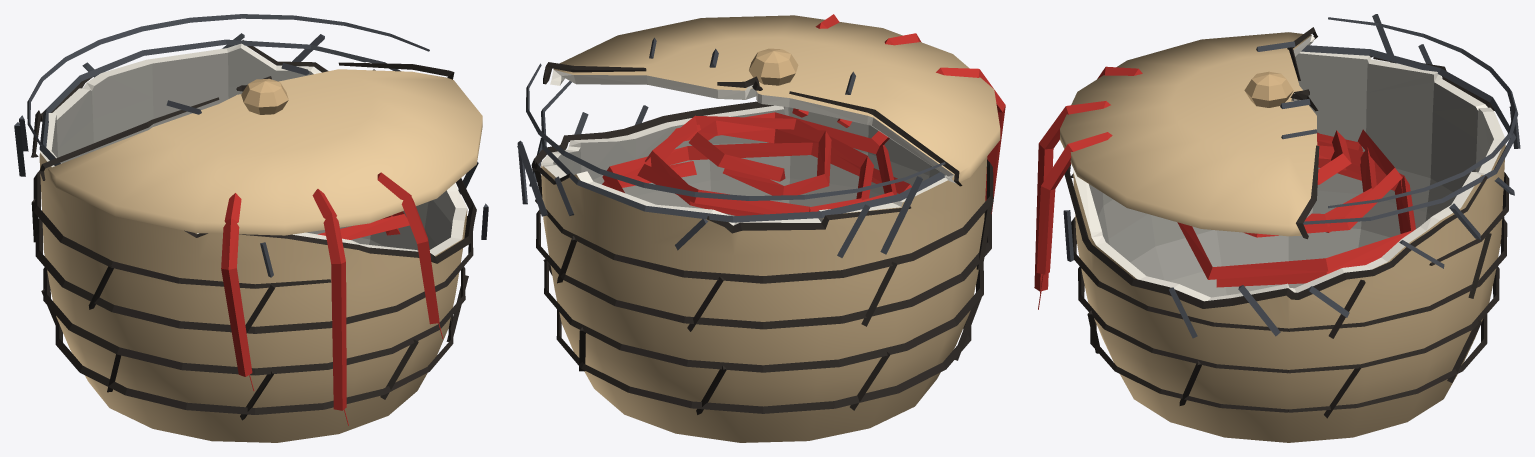
Rendered from CordBasket.fbx.
3 renders of one model, left to right at view 1: azimuth 30°, elevation 25°; view 2: azimuth 150°, elevation 25°; view 3: azimuth 270°, elevation 25°, orthographic. The views are drawn at different scales.
Parts seen in each view (by area): view 1: Basket, Lid, Lines, Cords; view 2: Basket, Lid, Lines, Cords; view 3: Basket, Lid, Lines, Cords.
Part boxes in pixels (x1=…): Basket: x1=39, y1=43, x2=467, y2=442; Lid: x1=47, y1=69, x2=482, y2=235; Lines: x1=14, y1=14, x2=488, y2=425; Cords: x1=221, y1=172, x2=439, y2=410; Basket: x1=541, y1=105, x2=987, y2=442; Lid: x1=550, y1=15, x2=1000, y2=183; Lines: x1=517, y1=37, x2=993, y2=414; Cords: x1=602, y1=14, x2=1005, y2=215; Basket: x1=1073, y1=51, x2=1505, y2=442; Lid: x1=1060, y1=32, x2=1317, y2=236; Lines: x1=1038, y1=14, x2=1520, y2=418; Cords: x1=1034, y1=66, x2=1415, y2=291.
Bounding box in the file's own units: 0.4739 × 0.333 × 0.4926.
